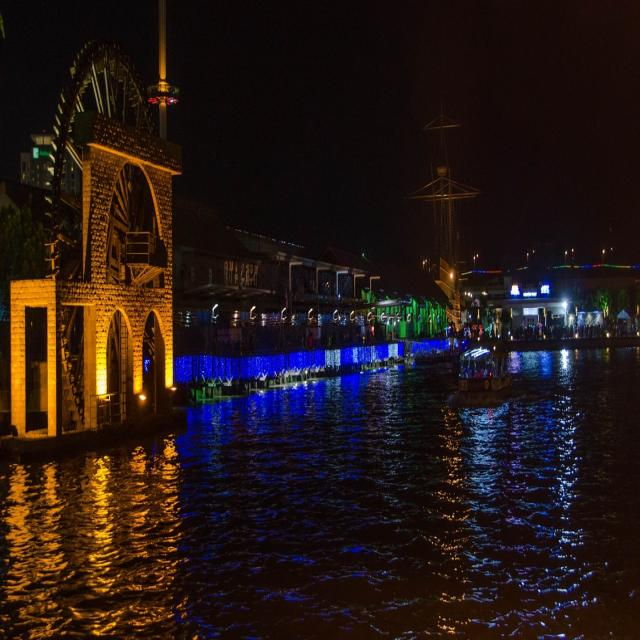Boat: (445, 320, 523, 406)
